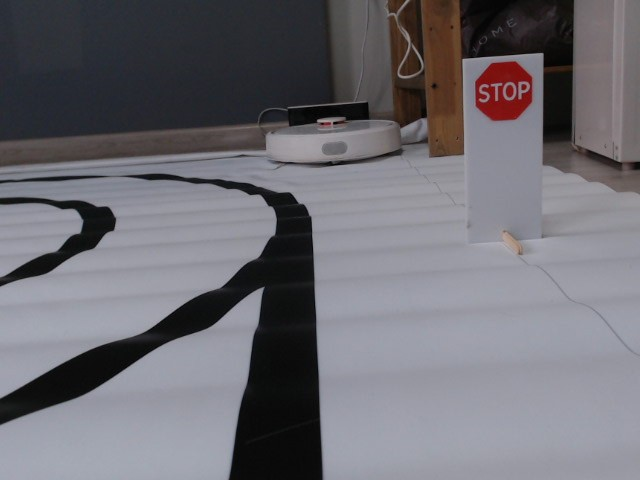Stop: (475, 60, 534, 122)
